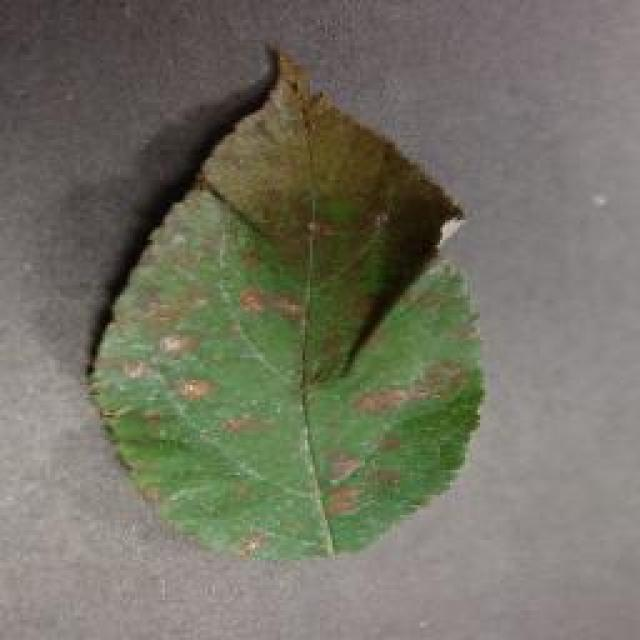apple rust disease: (82, 42, 488, 560)
